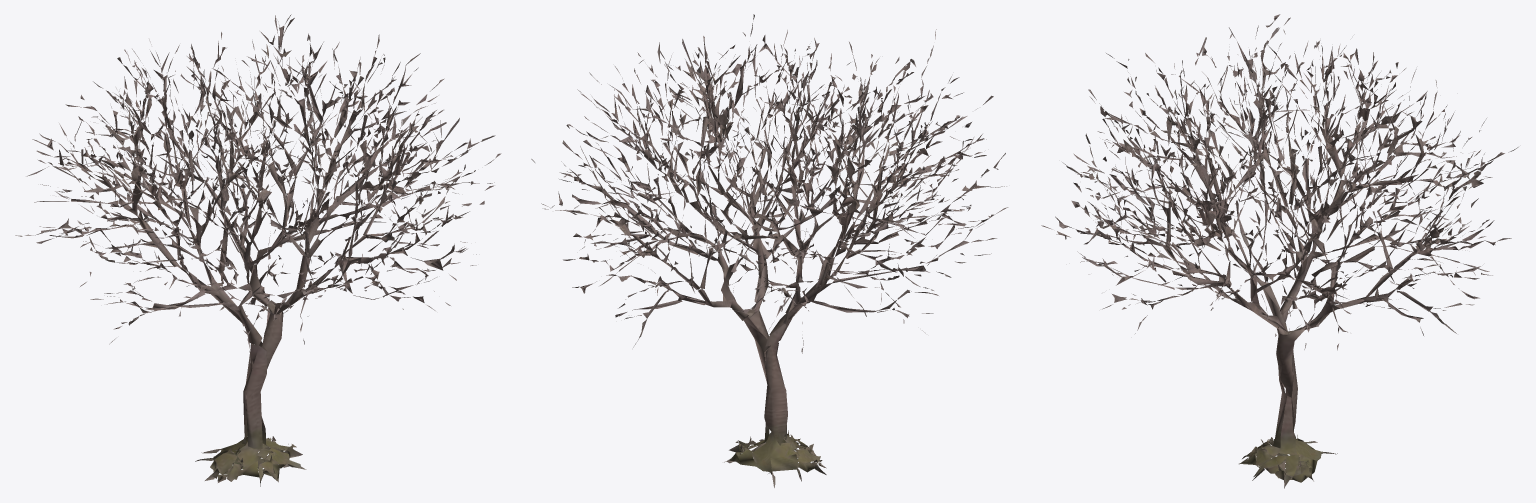
File: tree_winter_solitude.glb
The picture shows the model from 3 angles, left to right: view 1: azimuth 30°, elevation 25°; view 2: azimuth 150°, elevation 25°; view 3: azimuth 270°, elevation 25°; orthographic projection. The views are drawn at different scales.
Parts seen in each view (by area): view 1: Mesh_0; view 2: Mesh_0; view 3: Mesh_0.
Boxes of the visible parts, x1,y1,x2,y2 form: Mesh_0: (15, 14, 501, 486); Mesh_0: (531, 14, 1008, 487); Mesh_0: (1041, 14, 1518, 488).
Size of the model in its own units: 8.58 by 8.45 by 8.67.
Materials: 1 (1 with a texture image).
